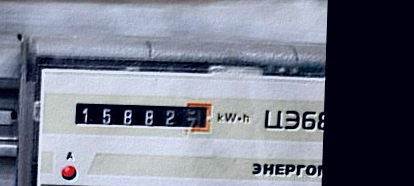1: (80, 106, 90, 123)
2: (164, 108, 175, 125)
5: (101, 107, 112, 123)
7: (186, 116, 196, 127)
8: (143, 108, 154, 126), (122, 109, 133, 125)
screen: (68, 94, 217, 138)
